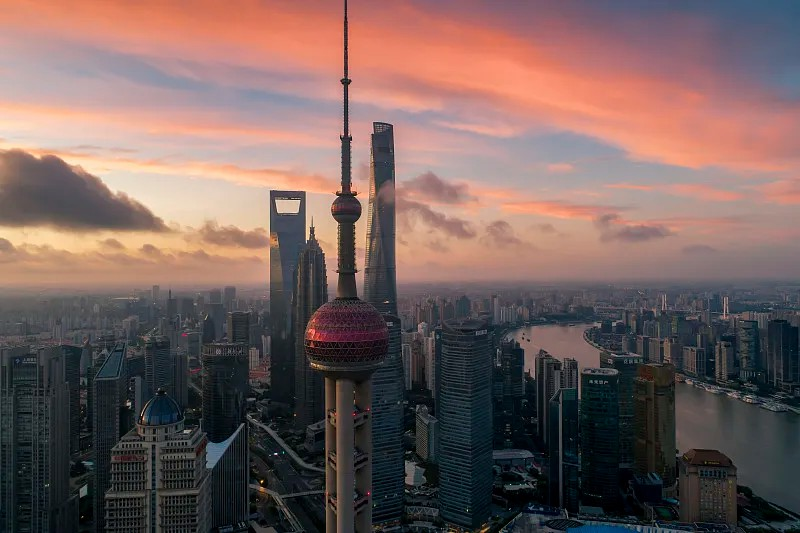Oriental: (304, 1, 390, 533)
